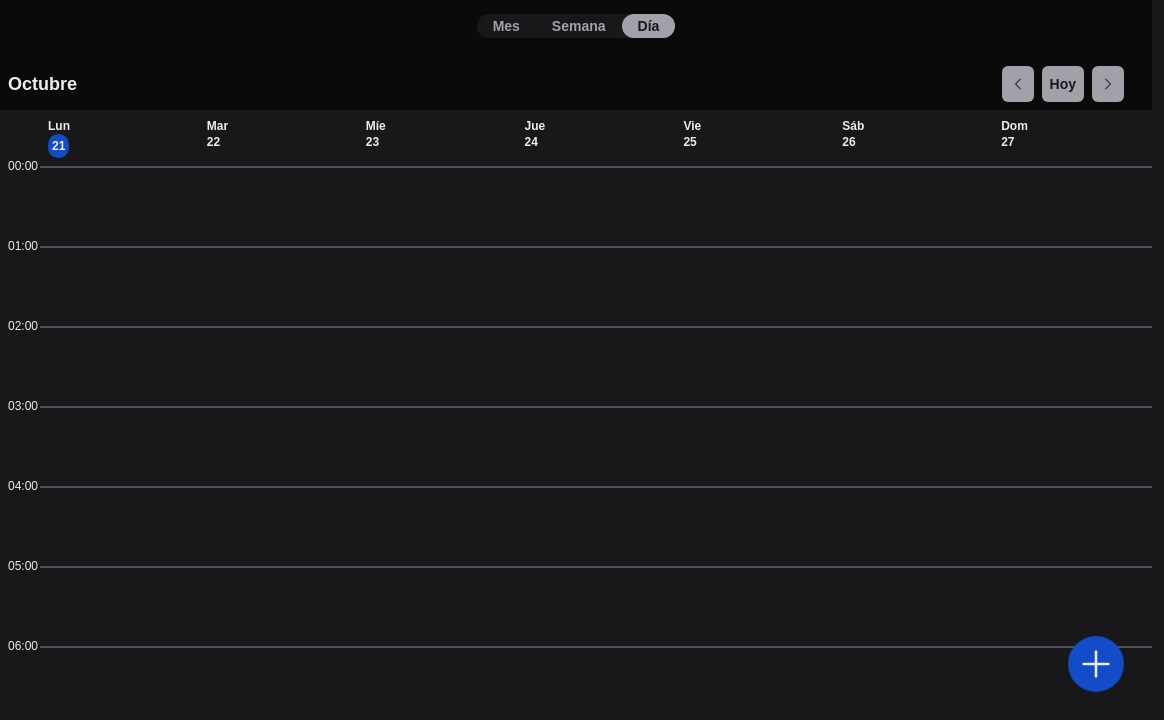
Calendar › select today
Step 1. Click the button named "previous calendar page" → (1018, 84), box [1002,66,1034,102]
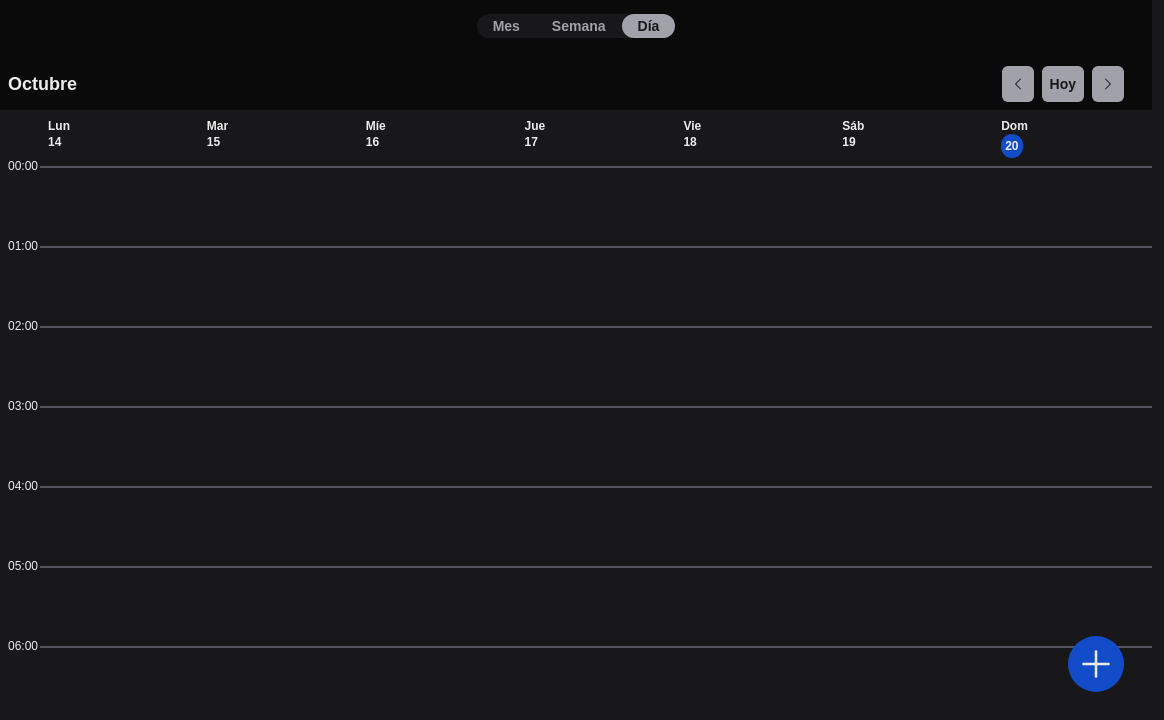
Step 2. Click the button "Hoy" → (1063, 84), box [1042,66,1084,102]
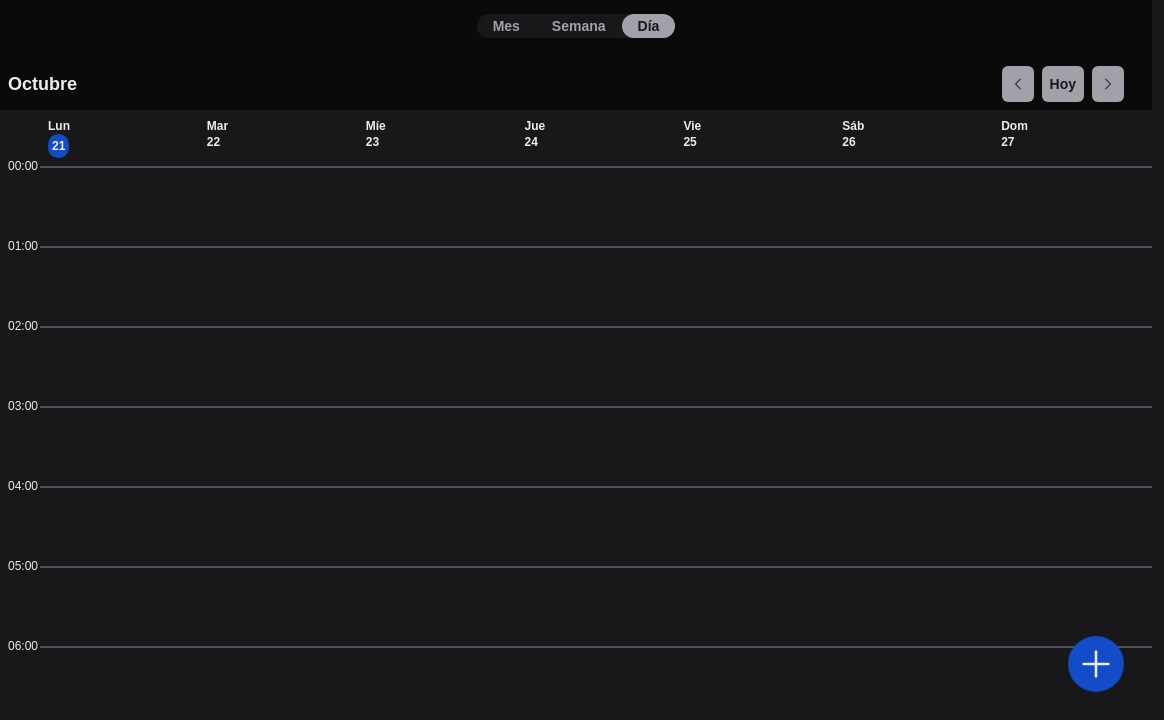
Check: the text with test id "active-day" reads "21", box [52,139,65,153]
